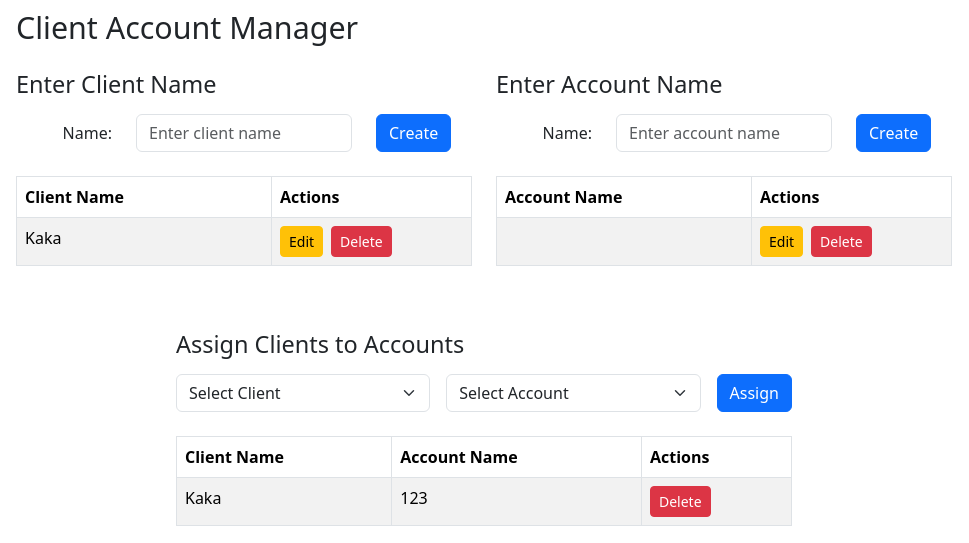
ClientAccountManager Component › remove an account and an assignment automatically
Click the button "Delete" below "Enter Account Name" at (841,241), box [811,226,872,257]
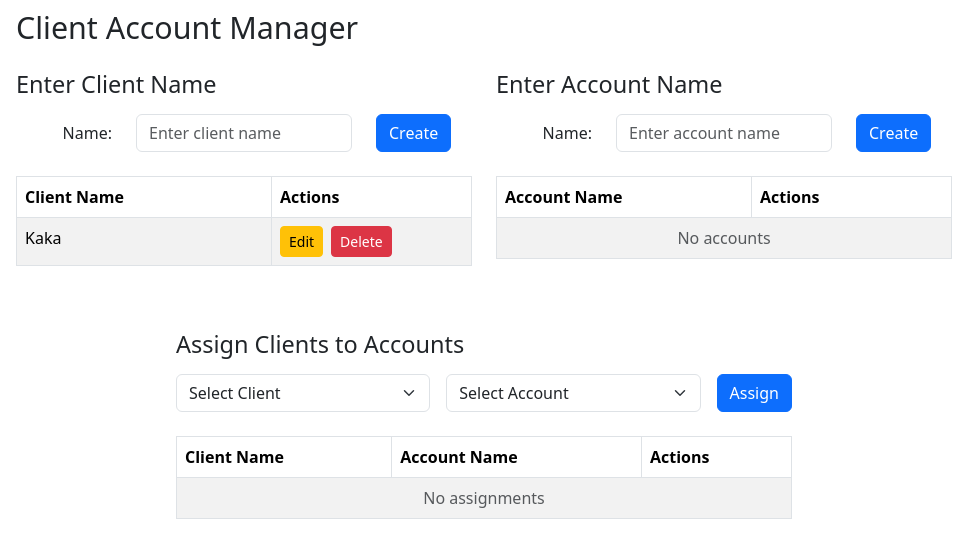
Check: the text "123" is gone
